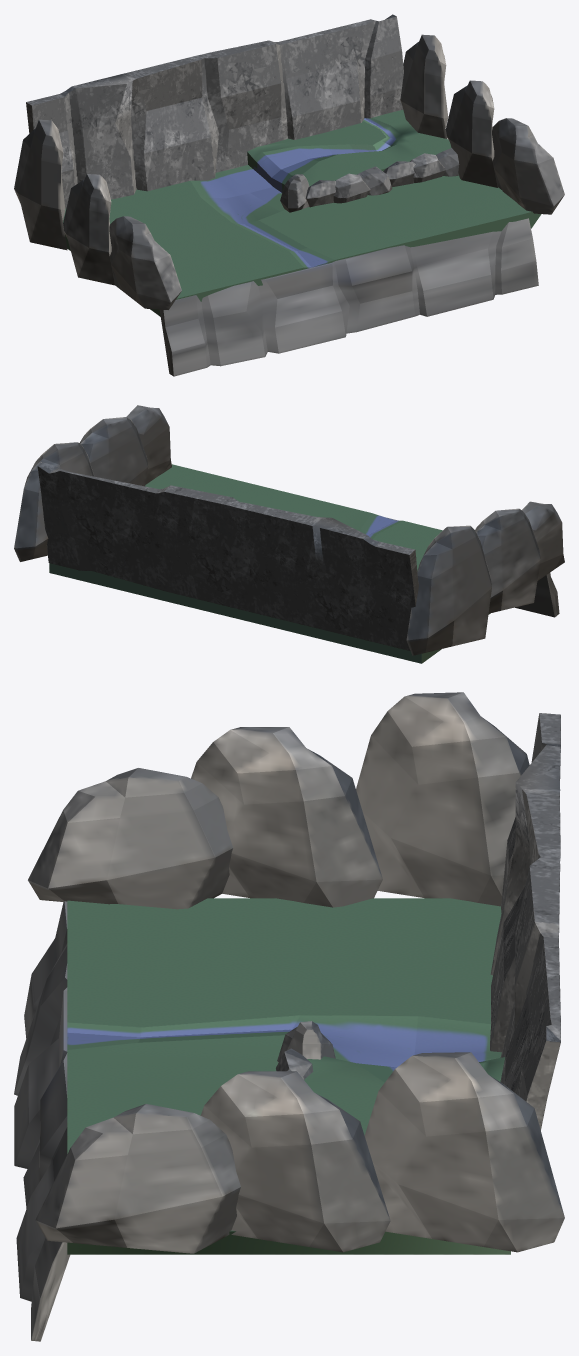
File: Map.obj
The picture shows the model from 3 angles, top to bottom: view 1: azimuth 30°, elevation 25°; view 2: azimuth 150°, elevation 25°; view 3: azimuth 270°, elevation 25°; orthographic projection. The views are drawn at different scales.
Parts seen in each view (by area): view 1: Map.001; view 2: Map.001; view 3: Map.001.
Part boxes in pixels (bbox=[...]): Map.001: bbox=[14, 14, 564, 376]; Map.001: bbox=[14, 405, 564, 663]; Map.001: bbox=[14, 692, 564, 1341].
Bounding box in the file's own units: 410 × 155 × 247.
Materials: 1 (1 with a texture image).
